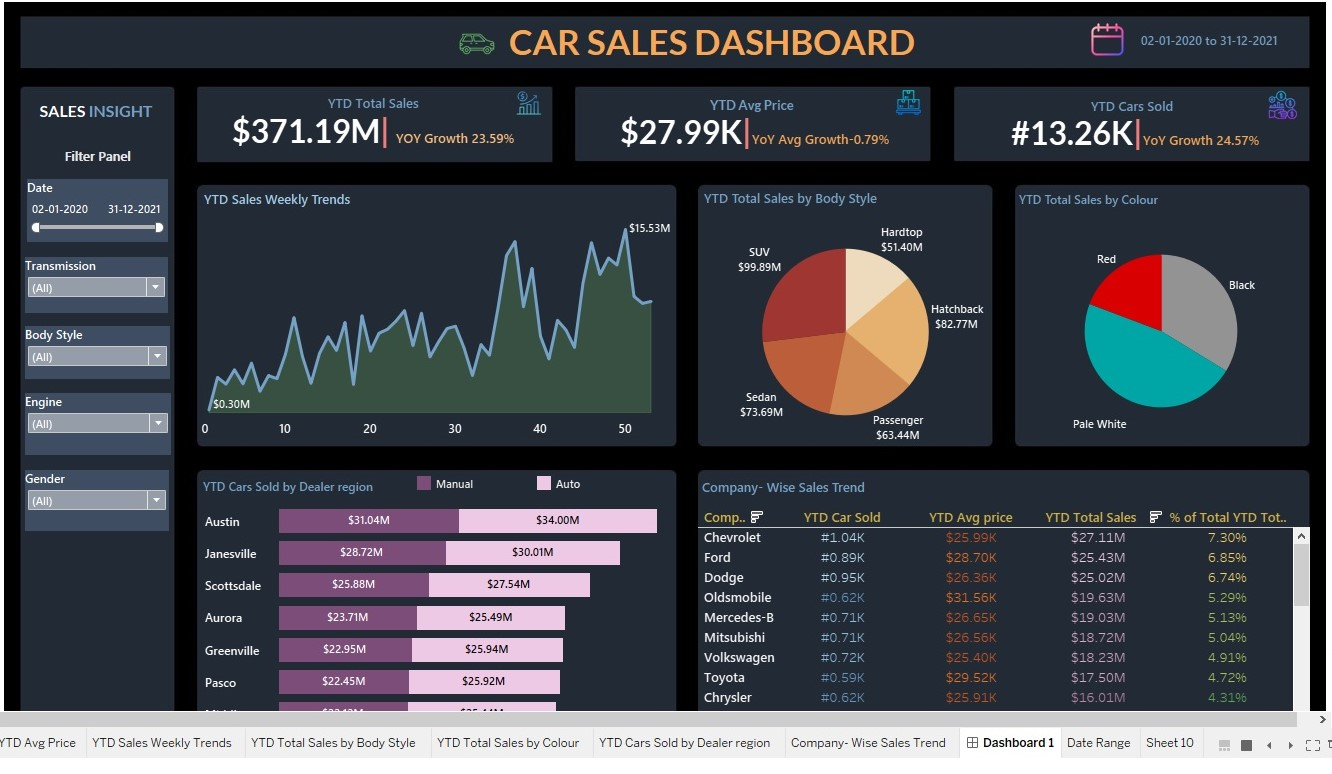

The page's visual inventory and layout, read from the dashboard file:
{"tool":"tableau","page":{"name":"Dashboard 1","canvas":[1366,768],"ordinal":0},"visuals":[{"type":"image","param":"Image/Car Sales Background.jpg","box":[8,8,1350,752]},{"type":"text","box":[492,27,476,49]},{"type":"image","param":"Image/calendar.png","box":[1107,31,36,36]},{"type":"worksheet","title":"Date Range","mark":"Automatic","box":[1135,31,186,40]},{"type":"image","param":"Image/Car Icon.png","box":[468,33,54,41]},{"type":"worksheet","title":"YTD Total Sales","mark":"Automatic","box":[215,95,353,76]},{"type":"worksheet","title":"YTD Avg Price","mark":"Automatic","box":[593,97,355,76]},{"type":"worksheet","title":"YTD Car Sold","mark":"Automatic","box":[974,98,353,75]},{"type":"image","param":"Image/Sales Icon.png","box":[526,99,42,27]},{"type":"image","param":"Image/Avg Price Icon.png","box":[905,99,42,26]},{"type":"image","param":"Image/Cars Sold Icon.png","box":[1278,100,46,29]},{"type":"text","box":[43,106,142,30]},{"type":"text","box":[56,153,119,25]},{"type":"filter","title":"YTD Sales Weekly Trends","param":"[federated.0vavpqx05zqs9212mcpb509b2z6v].[none:Date:qk]","box":[45,189,141,63]},{"type":"worksheet","title":"YTD Total Sales by Body Style","mark":"Pie","box":[718,195,291,261]},{"type":"worksheet","title":"YTD Sales Weekly Trends","mark":"Area","rows":["Calculation_733523857686978560","Calculation_733523857686978560"],"cols":["Date"],"box":[218,196,476,257]},{"type":"worksheet","title":"YTD Total Sales by Colour","mark":"Pie","box":[1033,197,292,257]},{"type":"filter","title":"YTD Sales Weekly Trends","param":"[federated.0vavpqx05zqs9212mcpb509b2z6v].[none:Transmission:nk]","box":[43,267,143,56]},{"type":"filter","title":"YTD Sales Weekly Trends","param":"[federated.0vavpqx05zqs9212mcpb509b2z6v].[none:Body Style:nk]","box":[43,336,145,53]},{"type":"filter","title":"YTD Sales Weekly Trends","param":"[federated.0vavpqx05zqs9212mcpb509b2z6v].[none:Engine:nk]","box":[43,403,146,62]},{"type":"filter","title":"YTD Sales Weekly Trends","param":"[federated.0vavpqx05zqs9212mcpb509b2z6v].[none:Gender:nk]","box":[43,480,144,61]},{"type":"legend","title":"YTD Cars Sold by Dealer region","param":"[federated.0vavpqx05zqs9212mcpb509b2z6v].[none:Transmission:nk]","box":[432,483,258,26]},{"type":"worksheet","title":"YTD Cars Sold by Dealer region","mark":"Automatic","rows":["Dealer_Region"],"cols":["Calculation_733523857686978560"],"box":[217,484,477,256]},{"type":"worksheet","title":"Company- Wise Sales Trend","mark":"Automatic","rows":["Company"],"box":[716,484,612,257]}]}

Visuals, with their boxes on the page's 1366x768 design canvas (x1, y1, x2, y2). These are canvas units, not pixel positions in the 1332x774 screenshot, which may show the page scaled, cropped or inside an application window:
image: l=8, t=8, r=1358, b=760
text: l=492, t=27, r=968, b=76
image: l=1107, t=31, r=1143, b=67
"Date Range" worksheet: l=1135, t=31, r=1321, b=71
image: l=468, t=33, r=522, b=74
"YTD Total Sales" worksheet: l=215, t=95, r=568, b=171
"YTD Avg Price" worksheet: l=593, t=97, r=948, b=173
"YTD Car Sold" worksheet: l=974, t=98, r=1327, b=173
image: l=526, t=99, r=568, b=126
image: l=905, t=99, r=947, b=125
image: l=1278, t=100, r=1324, b=129
text: l=43, t=106, r=185, b=136
text: l=56, t=153, r=175, b=178
"YTD Sales Weekly Trends" filter: l=45, t=189, r=186, b=252
"YTD Total Sales by Body Style" worksheet (Pie marks): l=718, t=195, r=1009, b=456
"YTD Sales Weekly Trends" worksheet (Area marks): l=218, t=196, r=694, b=453
"YTD Total Sales by Colour" worksheet (Pie marks): l=1033, t=197, r=1325, b=454
"YTD Sales Weekly Trends" filter: l=43, t=267, r=186, b=323
"YTD Sales Weekly Trends" filter: l=43, t=336, r=188, b=389
"YTD Sales Weekly Trends" filter: l=43, t=403, r=189, b=465
"YTD Sales Weekly Trends" filter: l=43, t=480, r=187, b=541
"YTD Cars Sold by Dealer region" legend: l=432, t=483, r=690, b=509
"YTD Cars Sold by Dealer region" worksheet: l=217, t=484, r=694, b=740
"Company- Wise Sales Trend" worksheet: l=716, t=484, r=1328, b=741
